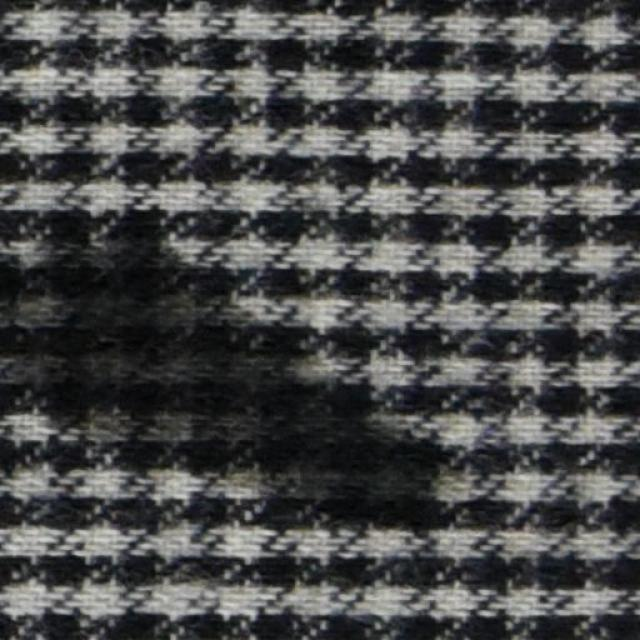Stain: (0, 212, 472, 556)
